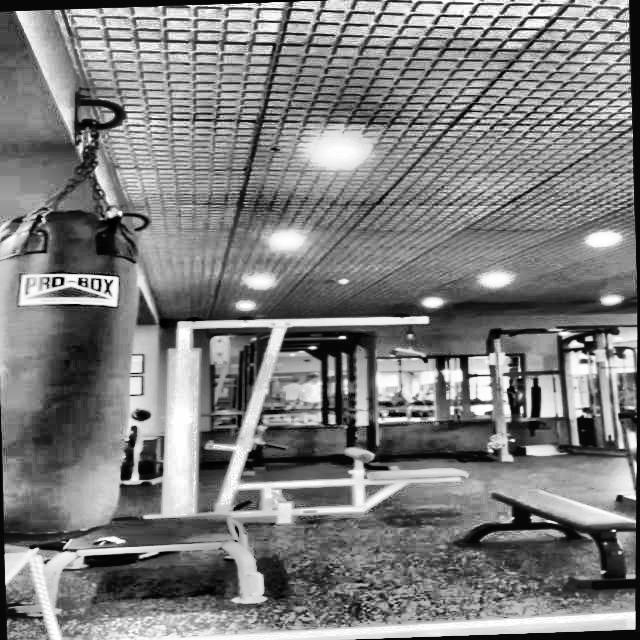boxing-bag: (0, 95, 143, 550)
